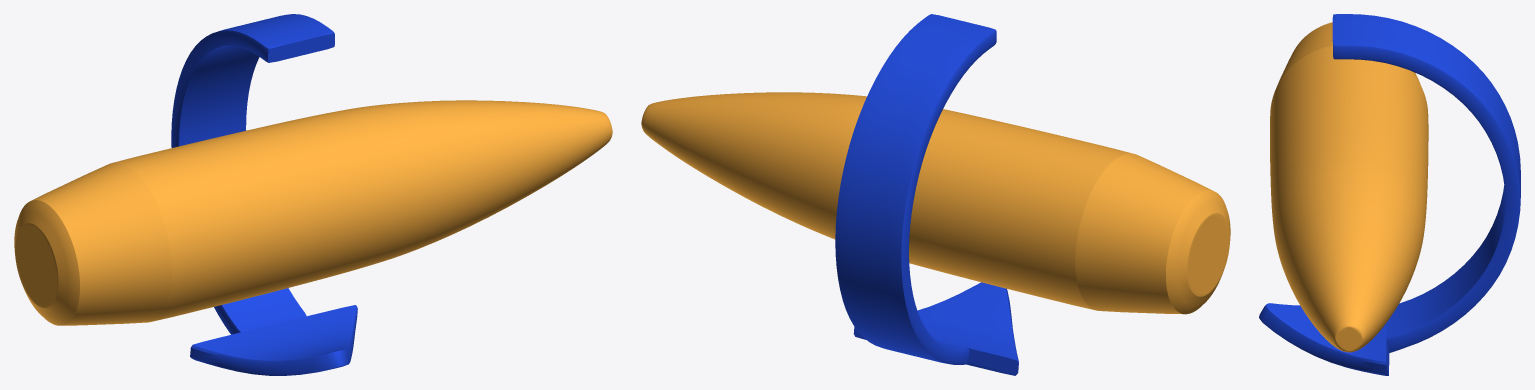
File: Bullet.fbx
3 renders of one model, left to right at view 1: azimuth 30°, elevation 25°; view 2: azimuth 150°, elevation 25°; view 3: azimuth 270°, elevation 25°, orthographic. The views are drawn at different scales.
Visible parts, largest first — view 1: Cylinder, Plane; view 2: Cylinder, Plane; view 3: Cylinder, Plane.
Part boxes in pixels (box(x1,y1,x2,y2)): Cylinder: box(14, 100, 612, 325); Plane: box(171, 14, 357, 375); Cylinder: box(641, 92, 1230, 314); Plane: box(835, 14, 1018, 375); Cylinder: box(1270, 22, 1428, 352); Plane: box(1259, 14, 1520, 375).
Bounding box in the file's own units: 405 × 219 × 167.
